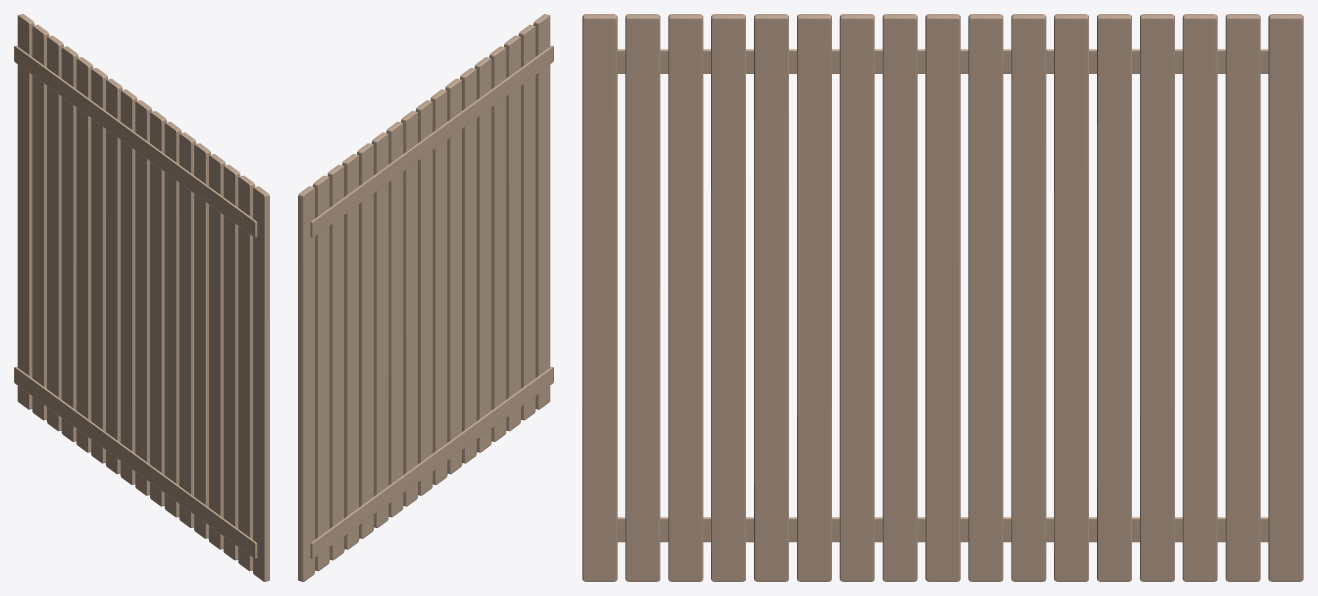
Rendered from thinwall.fbx.
3 views of the same model, side by side, from view 1: azimuth 30°, elevation 25°; view 2: azimuth 150°, elevation 25°; view 3: azimuth 270°, elevation 25° (orthographic). The views are drawn at different scales.
Visible parts, largest first — view 1: ThinHalfWall; view 2: ThinHalfWall; view 3: ThinHalfWall.
Boxes of the visible parts, x1,y1,x2,y2 form: ThinHalfWall: (14,14,269,581); ThinHalfWall: (298,14,553,581); ThinHalfWall: (582,14,1303,581).
Size of the model in its own units: 0.0577 by 1.79 by 2.08.
